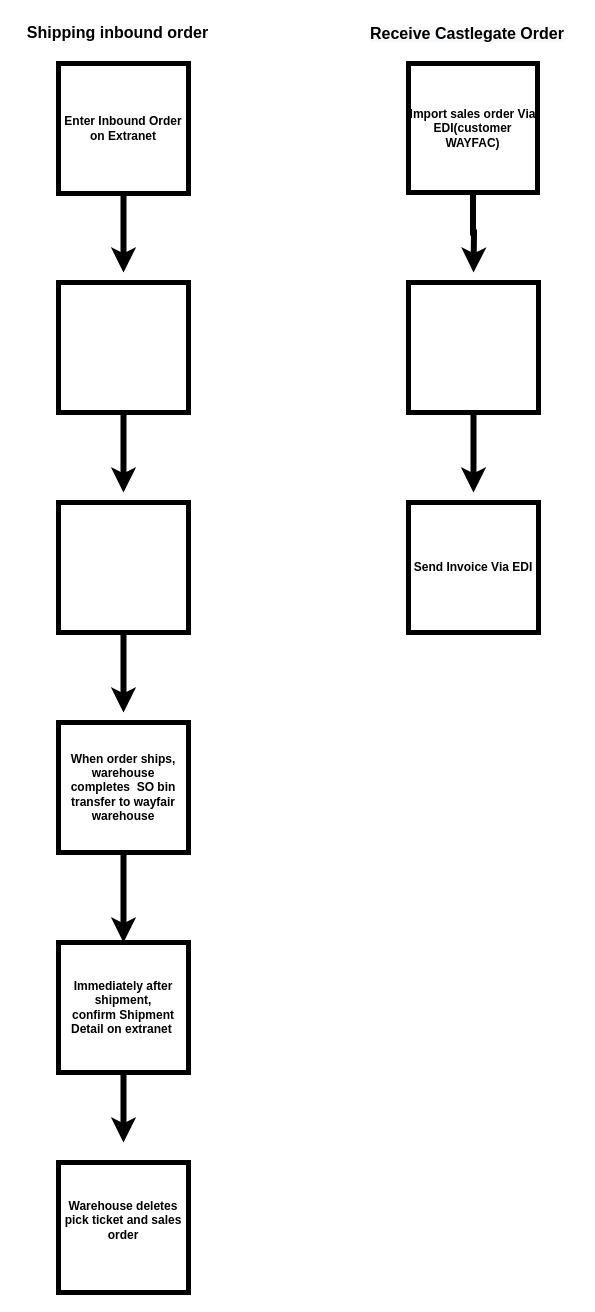
The diagram is 595 pixels wide and 1312 high, and some of its shapes have lost their labels. The shapes that lost their labels are listed below. From the top down, each one's centre as x and y in pixels, then its label:
pixel 123 347: Enter transfer S/O in OMS. allocates to PT
pixel 473 347: Invoice Orders In OMS
pixel 123 567: Warehouse does PT Bin Transfer To dock
